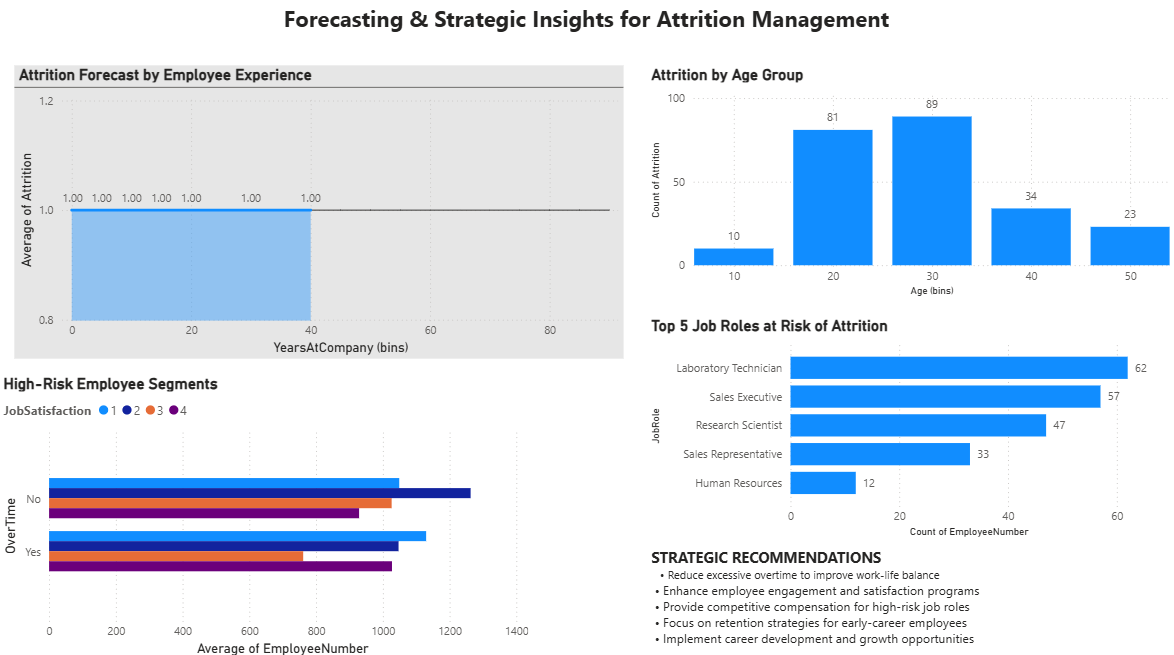

What the dashboard file says about the page in this screenshot:
{"tool":"powerbi","page":{"name":"Forecasting ","canvas":[1280,720],"ordinal":2},"visuals":[{"type":"textbox","box":[0,0,1280,44],"z":0},{"type":"lineChart","title":"Attrition Forecast by Employee Experience","fields":{"Category":["cleaned_hr_data.YearsAtCompany (bins)"],"Y":["Avg(cleaned_hr_data.Attrition)"]},"box":[16.7,71.7,663.3,320],"z":1000},{"type":"clusteredColumnChart","title":"Attrition by Age Group","fields":{"Category":["cleaned_hr_data.Age (bins)"],"Y":["CountNonNull(cleaned_hr_data.Attrition)"]},"box":[705,71.7,575,256.7],"z":2000},{"type":"clusteredBarChart","title":"High-Risk Employee Segments","fields":{"Category":["cleaned_hr_data.OverTime"],"Series":["cleaned_hr_data.JobSatisfaction"],"Y":["Avg(cleaned_hr_data.EmployeeNumber)"]},"box":[0,408.3,581.7,311.7],"z":3000},{"type":"clusteredBarChart","title":"Top 5 Job Roles at Risk of Attrition","fields":{"Category":["cleaned_hr_data.JobRole"],"Y":["CountNonNull(cleaned_hr_data.EmployeeNumber)"]},"box":[705,345,558.3,245],"z":4000},{"type":"textbox","box":[706,592,530,128],"z":4001}]}

Visuals, with their boxes in screenshot pixels (x1, y1, x2, y2), scaled from the page's 1280x720 canvas onto the 1174x655 screenshot:
textbox: bbox(0, 0, 1173, 40)
"Attrition Forecast by Employee Experience" lineChart: bbox(15, 65, 624, 356)
"Attrition by Age Group" clusteredColumnChart: bbox(647, 65, 1173, 299)
"High-Risk Employee Segments" clusteredBarChart: bbox(0, 371, 534, 654)
"Top 5 Job Roles at Risk of Attrition" clusteredBarChart: bbox(647, 314, 1159, 537)
textbox: bbox(648, 539, 1134, 654)
